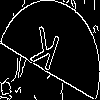K: (25, 25, 62, 82)
